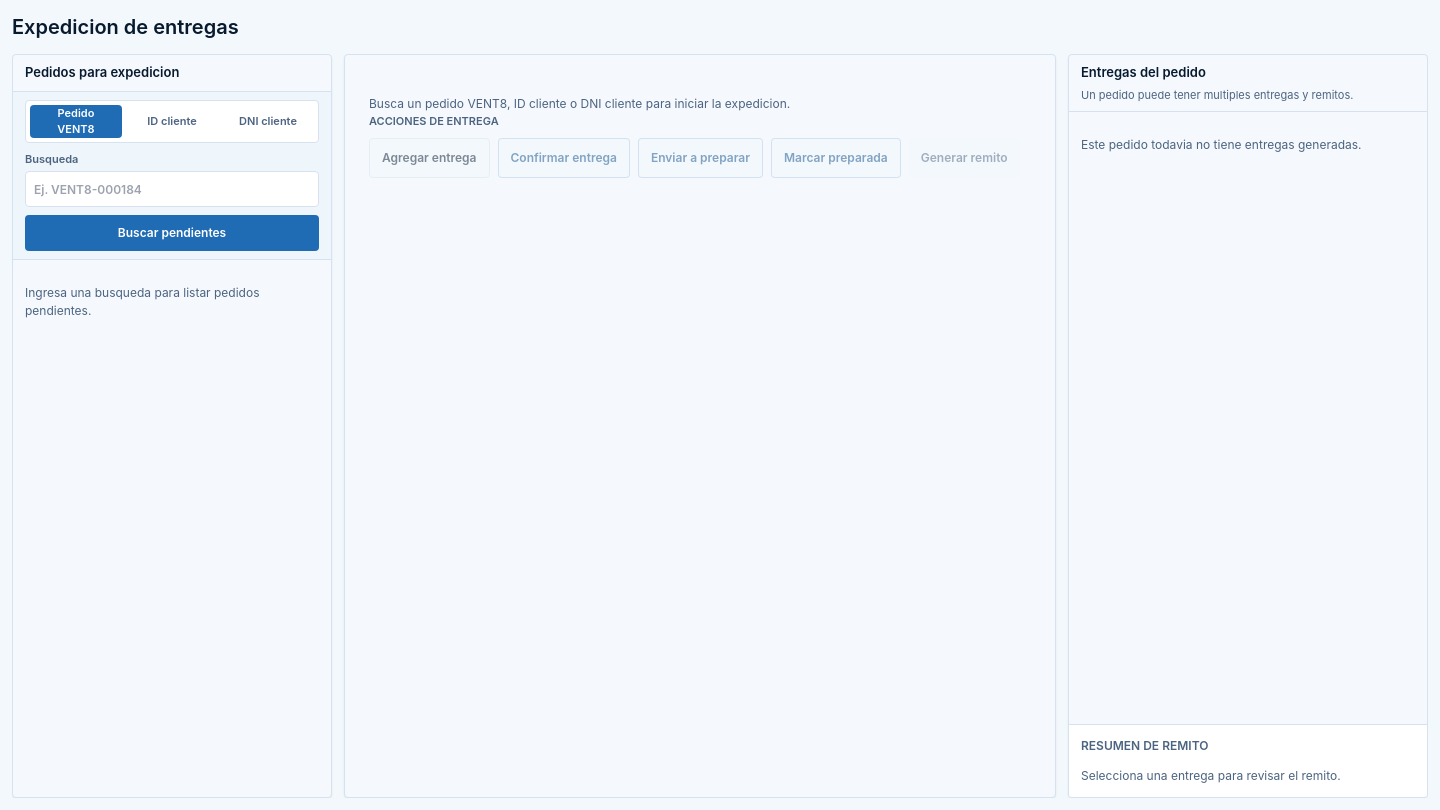
Test case: DeliveryExpeditionPage › searches pending orders by customer DNI
Click the button "DNI cliente" at [268, 121], box [222,104,314,138]
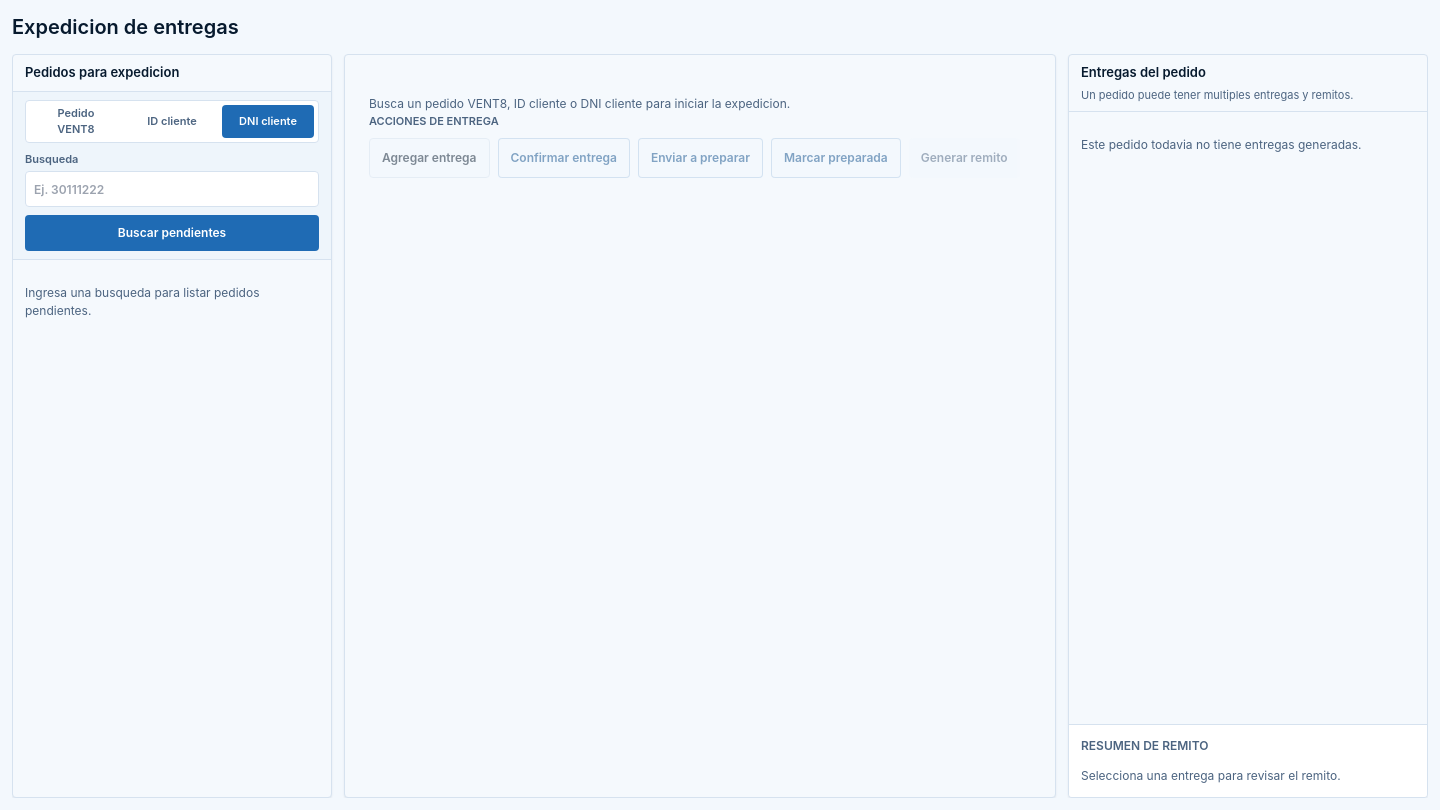
Type "30111222" into the field labelled "Busqueda" at [172, 189], box [25,171,319,207]
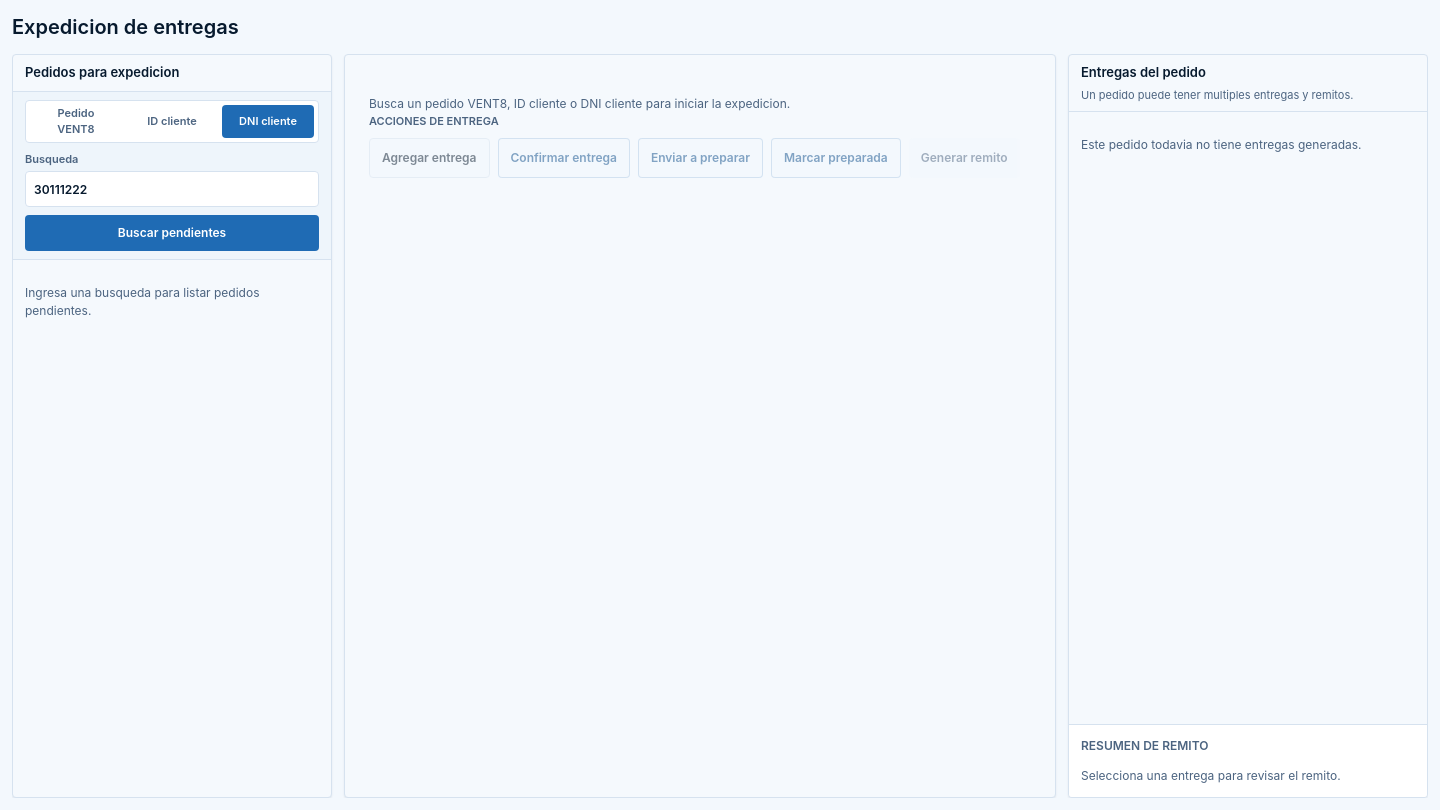
Click the button "Buscar pendientes" at [172, 233], box [25,215,319,251]
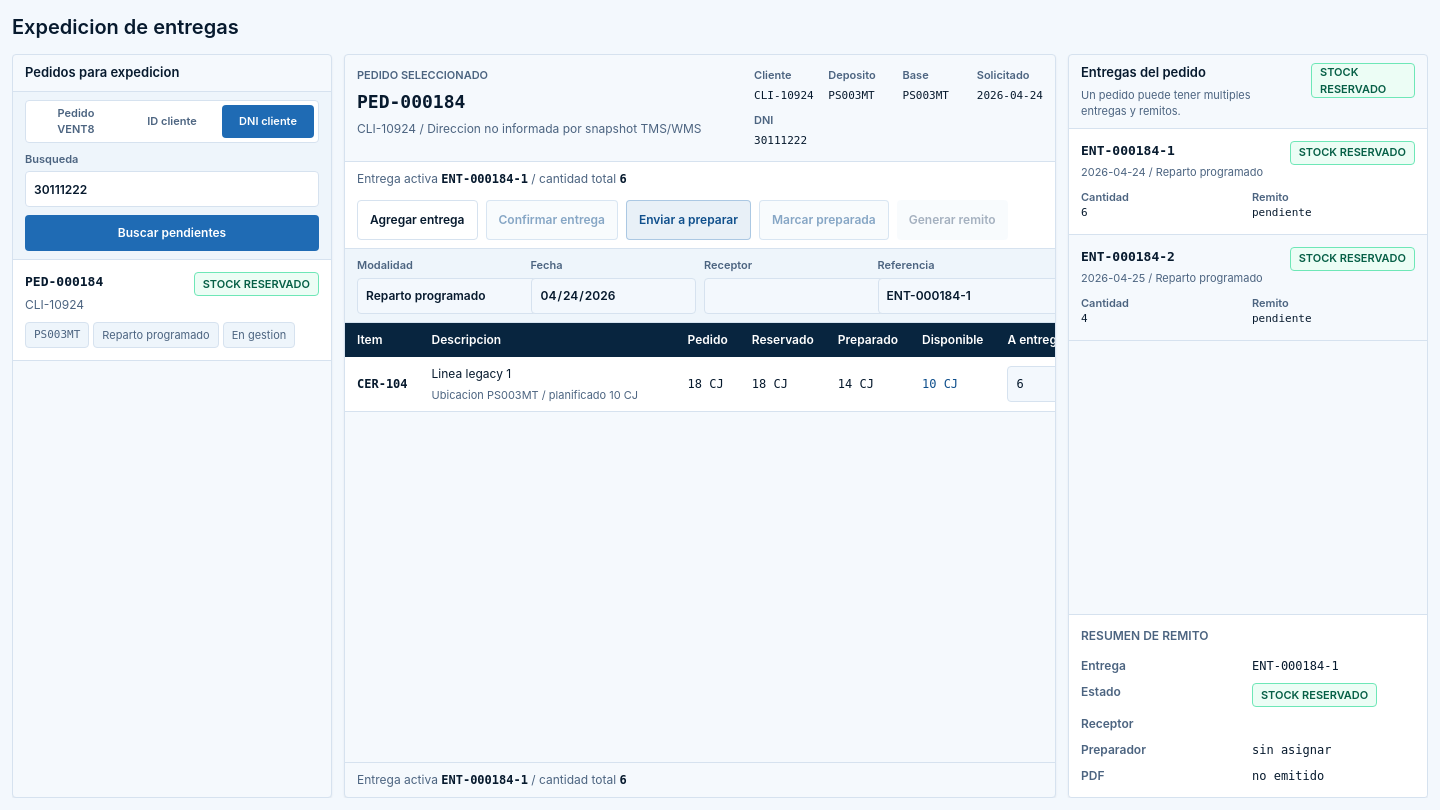
Check: the text "PED-000184" is shown, box [25,272,103,292]
